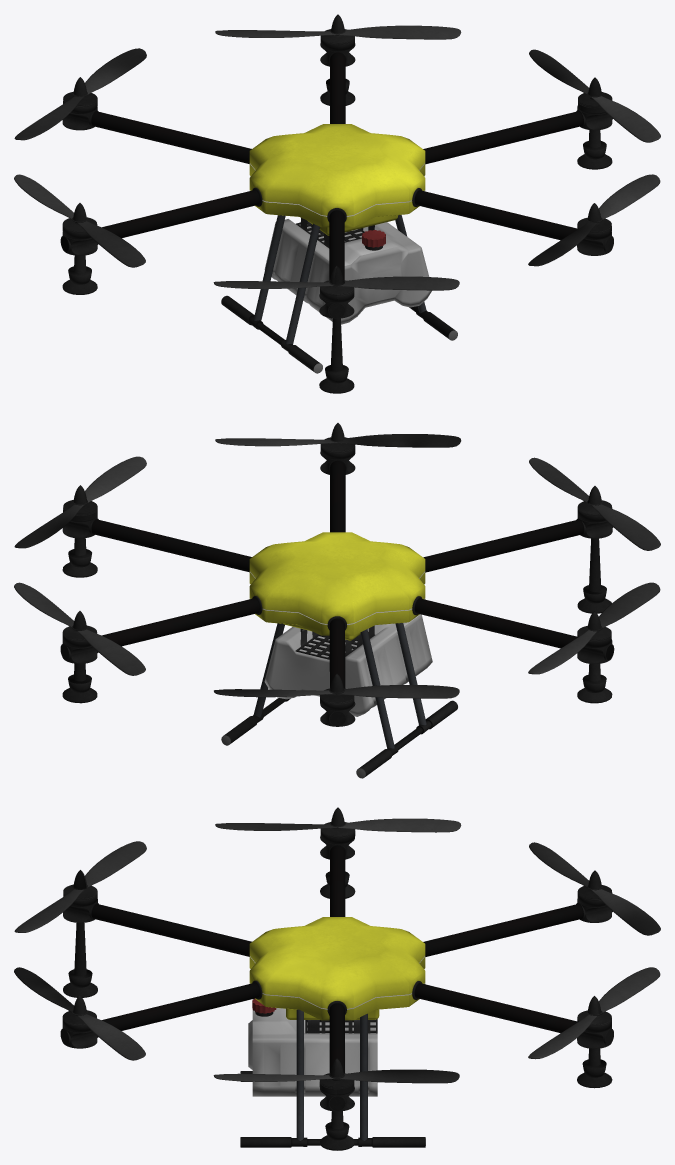
Rendered from drone_for_agriculturelow_poly.glb.
The picture shows the model from 3 angles, top to bottom: view 1: azimuth 30°, elevation 25°; view 2: azimuth 150°, elevation 25°; view 3: azimuth 270°, elevation 25°; orthographic projection.
Parts seen in each view (by area): view 1: pCylinder20, pCylinder7, polySurface24, polySurface6, polySurface9, polySurface5, polySurface8, polySurface7, polySurface4, pCylinder26, pCylinder23, polySurface13 (+2 smaller); view 2: pCylinder20, pCylinder7, polySurface24, polySurface4, polySurface7, polySurface6, polySurface9, polySurface8, polySurface5, pCylinder26, pCylinder23, polySurface13 (+8 smaller); view 3: pCylinder20, pCylinder7, polySurface24, polySurface8, polySurface5, polySurface7, polySurface4, polySurface9, polySurface6, pCylinder26, pCylinder23, polySurface13 (+7 smaller).
Boxes of the visible parts, x1=… form: pCylinder20: x1=249, y1=124, x2=425, y2=227; pCylinder7: x1=61, y1=52, x2=613, y2=317; polySurface24: x1=264, y1=219, x2=431, y2=324; polySurface6: x1=215, y1=14, x2=461, y2=39; polySurface9: x1=213, y1=266, x2=459, y2=290; polySurface5: x1=529, y1=49, x2=660, y2=142; polySurface8: x1=14, y1=174, x2=145, y2=267; polySurface7: x1=14, y1=48, x2=146, y2=140; polySurface4: x1=528, y1=174, x2=660, y2=266; pCylinder26: x1=253, y1=215, x2=426, y2=344; pCylinder23: x1=221, y1=295, x2=457, y2=373; polySurface13: x1=319, y1=318, x2=354, y2=393; pCylinder20: x1=249, y1=532, x2=425, y2=635; pCylinder7: x1=61, y1=460, x2=613, y2=725; polySurface24: x1=264, y1=614, x2=432, y2=716; polySurface4: x1=215, y1=423, x2=461, y2=447; polySurface7: x1=214, y1=674, x2=459, y2=698; polySurface6: x1=14, y1=582, x2=145, y2=675; polySurface9: x1=529, y1=457, x2=660, y2=550; polySurface8: x1=528, y1=582, x2=660, y2=674; polySurface5: x1=14, y1=456, x2=146, y2=548; pCylinder26: x1=253, y1=623, x2=426, y2=748; pCylinder23: x1=221, y1=698, x2=457, y2=778; polySurface13: x1=577, y1=538, x2=611, y2=613; pCylinder20: x1=249, y1=917, x2=425, y2=1020; pCylinder7: x1=61, y1=845, x2=613, y2=1110; polySurface24: x1=248, y1=999, x2=377, y2=1096; polySurface8: x1=215, y1=807, x2=461, y2=832; polySurface5: x1=213, y1=1058, x2=459, y2=1083; polySurface7: x1=529, y1=842, x2=660, y2=935; polySurface4: x1=14, y1=967, x2=145, y2=1060; polySurface9: x1=14, y1=841, x2=146, y2=932; polySurface6: x1=528, y1=967, x2=660, y2=1059; pCylinder26: x1=296, y1=1009, x2=367, y2=1140; pCylinder23: x1=240, y1=1071, x2=425, y2=1147; polySurface13: x1=63, y1=923, x2=97, y2=997.
Bounding box in the file's own units: 0.2092 × 0.0667 × 0.2151.
1 material, 1 textured.
